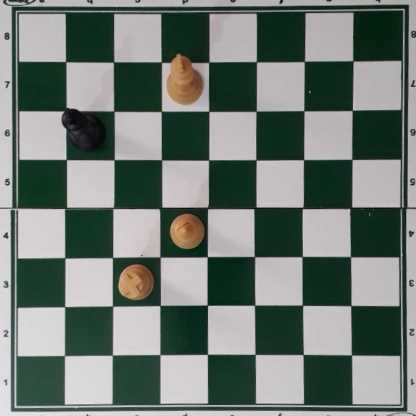black-king: (61, 107, 107, 153)
white-bishop: (169, 210, 205, 252)
white-king: (165, 53, 204, 107)
white-rook: (117, 264, 155, 300)
